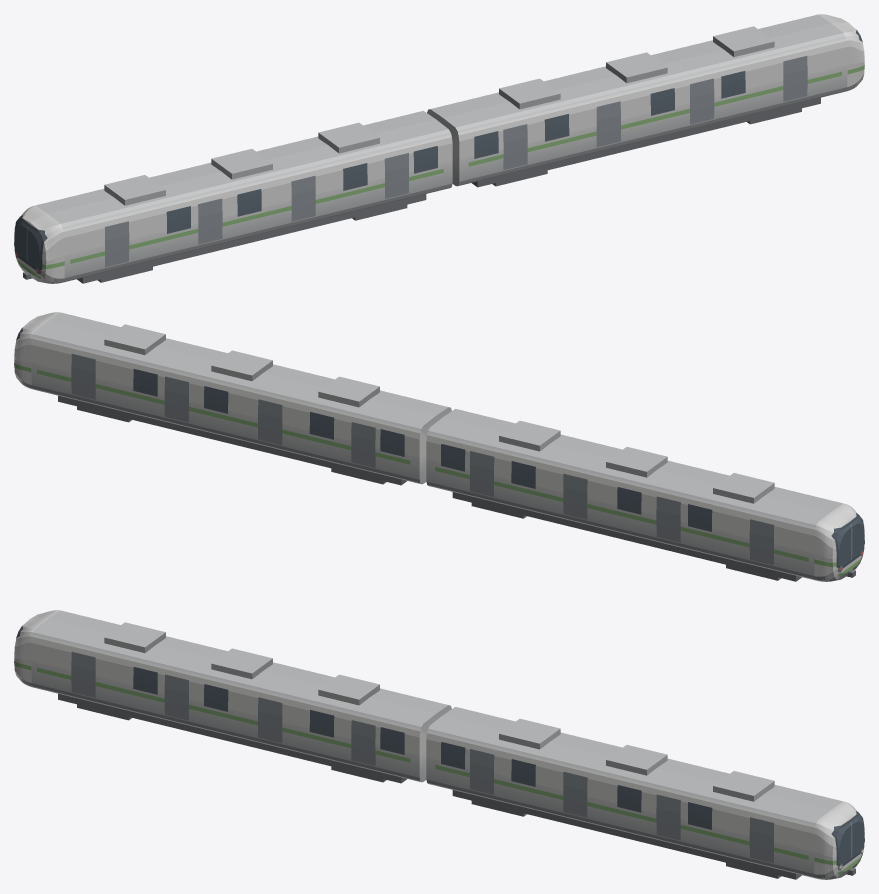
The model's file is 02_HSR_MRT_3x2-04.glb.
3 views of the same model, one above another, from view 1: azimuth 30°, elevation 25°; view 2: azimuth 150°, elevation 25°; view 3: azimuth 330°, elevation 25° (orthographic).
Bounding box in the file's own units: 44.68 × 3.88 × 3.14.
